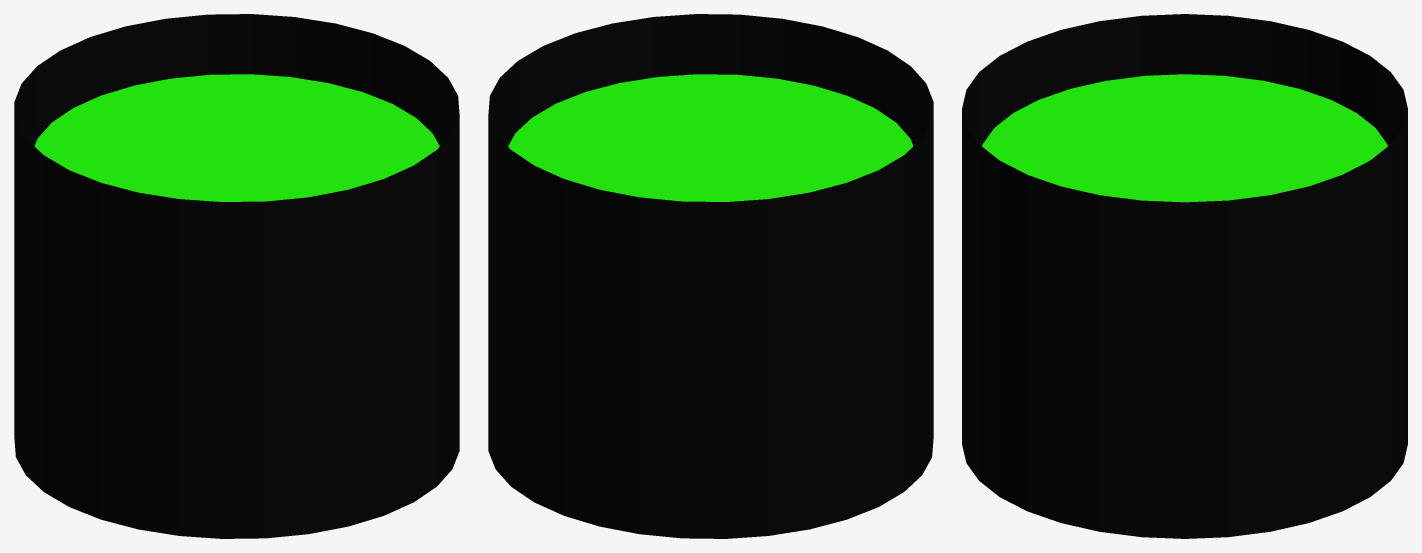
Rendered from Specimen2.dae.
The picture shows the model from 3 angles, left to right: view 1: azimuth 30°, elevation 25°; view 2: azimuth 150°, elevation 25°; view 3: azimuth 270°, elevation 25°; orthographic projection.
Parts seen in each view (by area): view 1: Cylinder, Cylinder.001; view 2: Cylinder, Cylinder.001; view 3: Cylinder, Cylinder.001.
Part boxes in pixels (x1,y1,x2,y2): Cylinder: [14, 14, 459, 538]; Cylinder.001: [34, 74, 439, 201]; Cylinder: [488, 14, 933, 538]; Cylinder.001: [508, 74, 913, 201]; Cylinder: [962, 14, 1407, 538]; Cylinder.001: [982, 74, 1387, 202].
Bounding box in the file's own units: 0.3 × 0.3 × 0.25.
